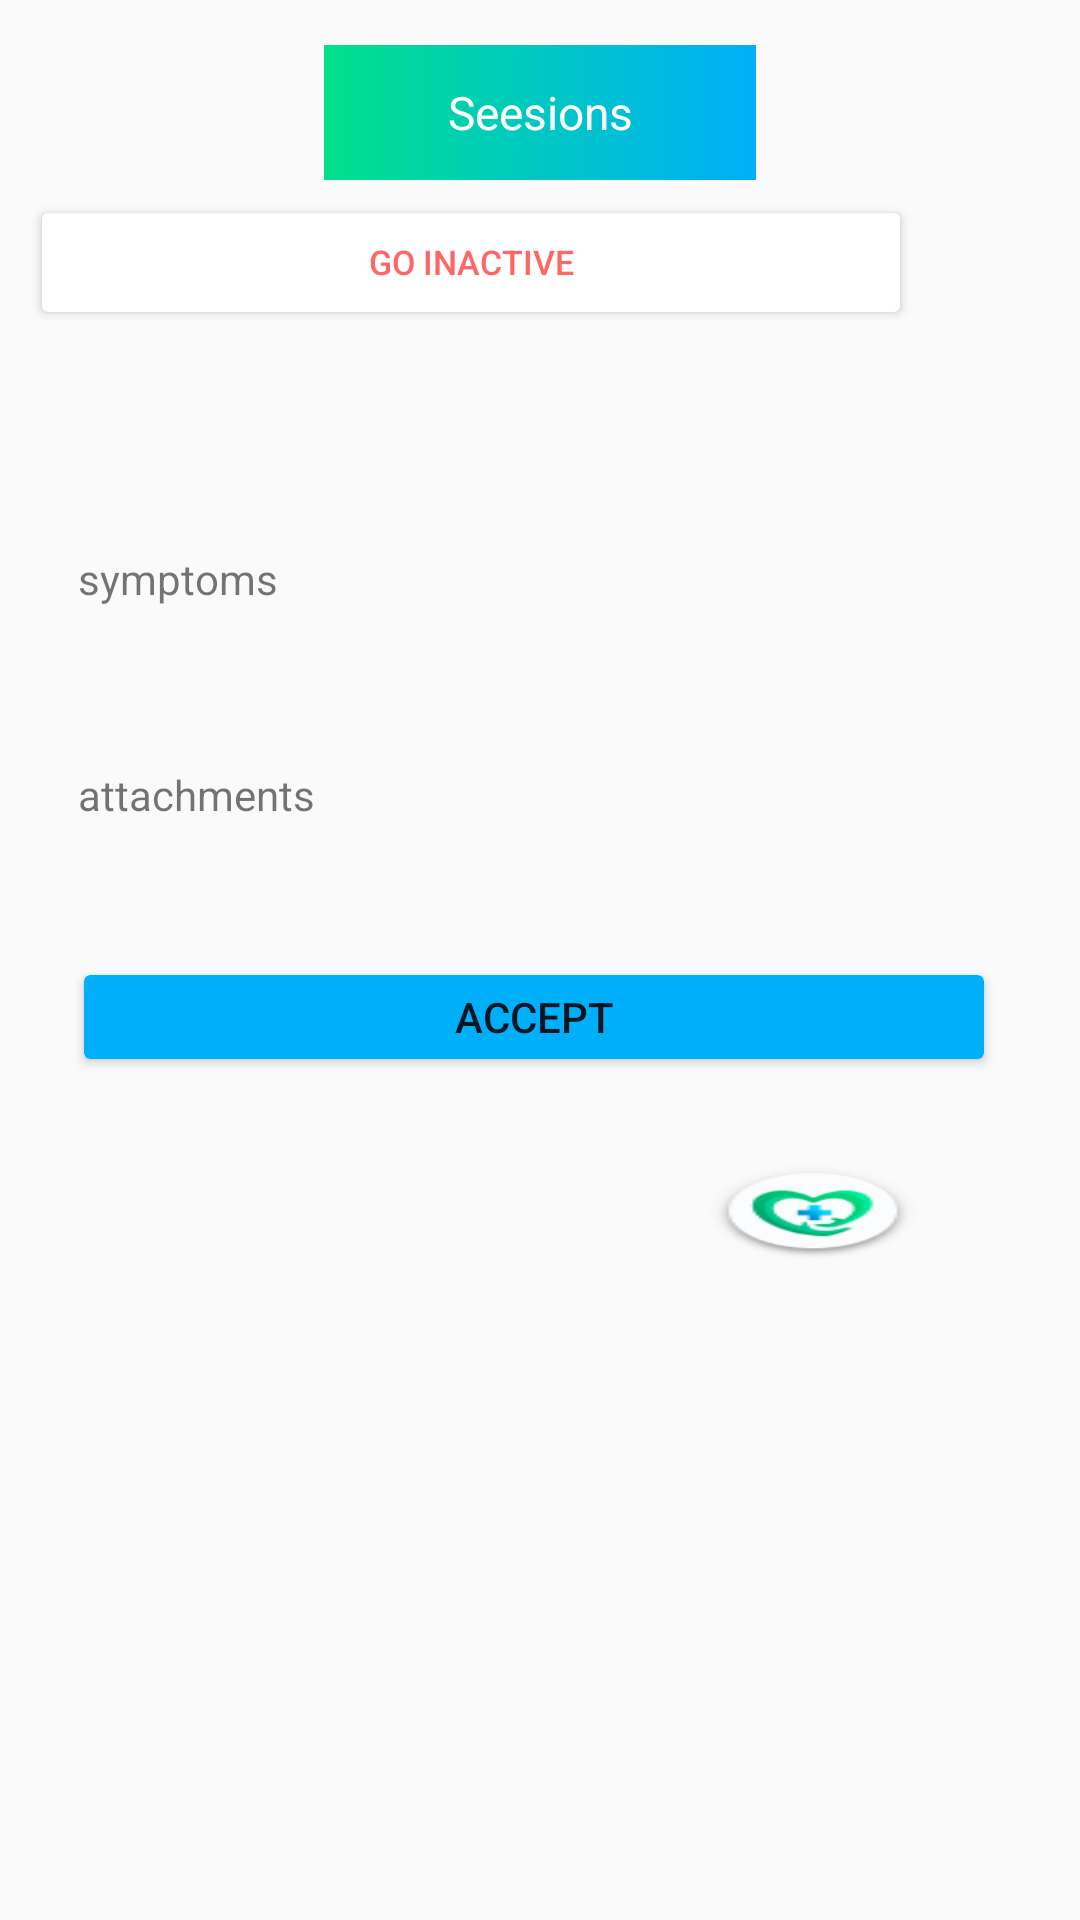

Where to tap for icons on this 1080x1920 app screen, as (x,y):
doctor: (813,1222)
